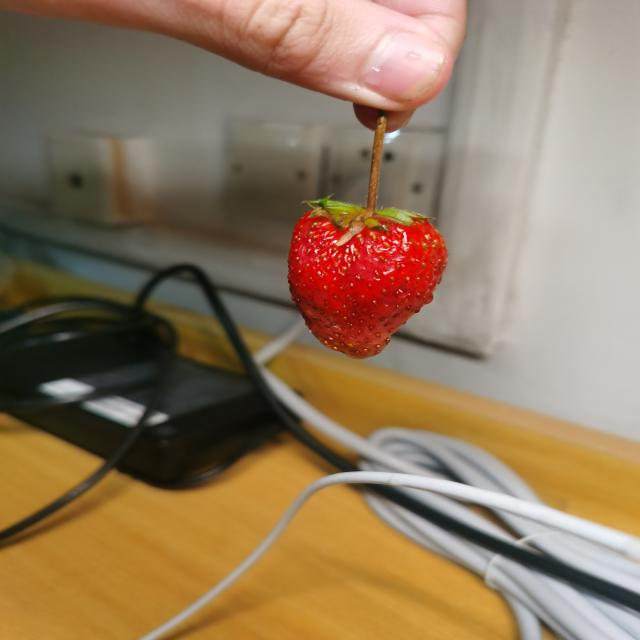stem: (363, 138, 383, 217)
strawberry: (287, 201, 449, 360)
